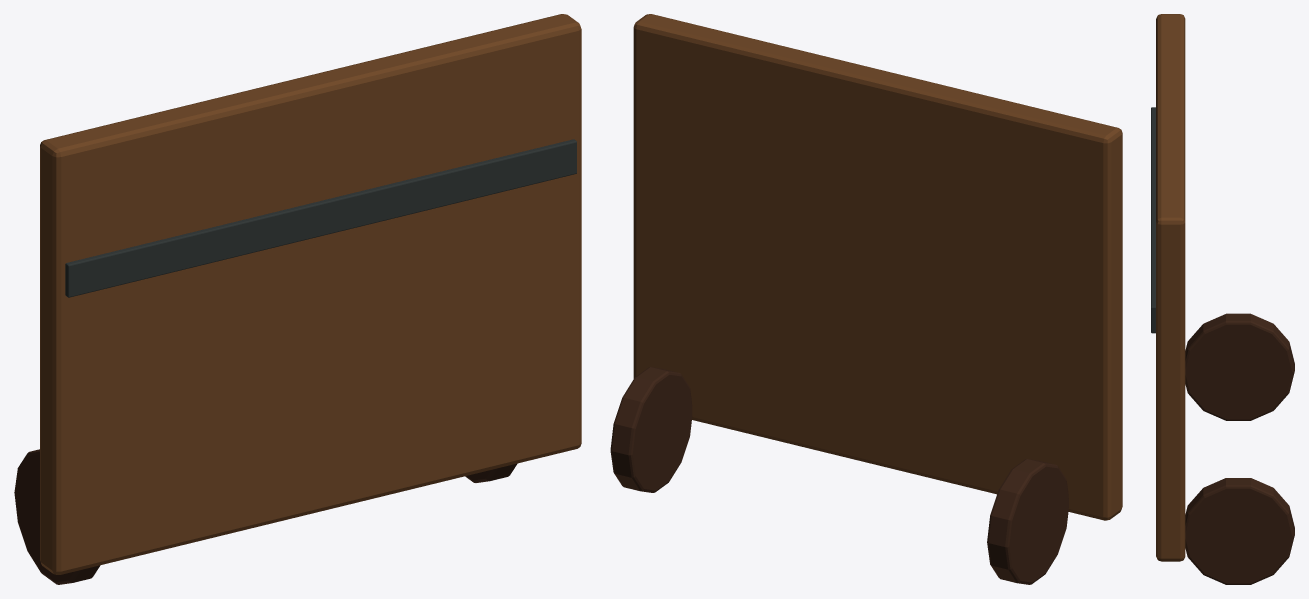
Rendered from mantlet_archer_LOD1.glb.
3 views of the same model, side by side, from view 1: azimuth 30°, elevation 25°; view 2: azimuth 150°, elevation 25°; view 3: azimuth 270°, elevation 25° (orthographic). The views are drawn at different scales.
Visible parts, largest first — view 1: LOD1_Screen, LOD1_Slit, LOD1_Wheel; view 2: LOD1_Screen, LOD1_Wheel, LOD1_Wheel.001; view 3: LOD1_Screen, LOD1_Wheel, LOD1_Wheel.001, LOD1_Slit.
Part boxes in pixels (x1,y1,x2,y2): LOD1_Screen: (40,14,581,574); LOD1_Slit: (65,139,576,297); LOD1_Wheel: (14,449,100,584); LOD1_Screen: (633,14,1122,520); LOD1_Wheel: (987,459,1068,584); LOD1_Wheel.001: (610,367,692,492); LOD1_Screen: (1156,14,1185,561); LOD1_Wheel: (1185,313,1294,420); LOD1_Wheel.001: (1185,478,1294,584); LOD1_Slit: (1151,107,1155,333).
Size of the model in its own units: 2.18 by 1.87 by 0.6375.
